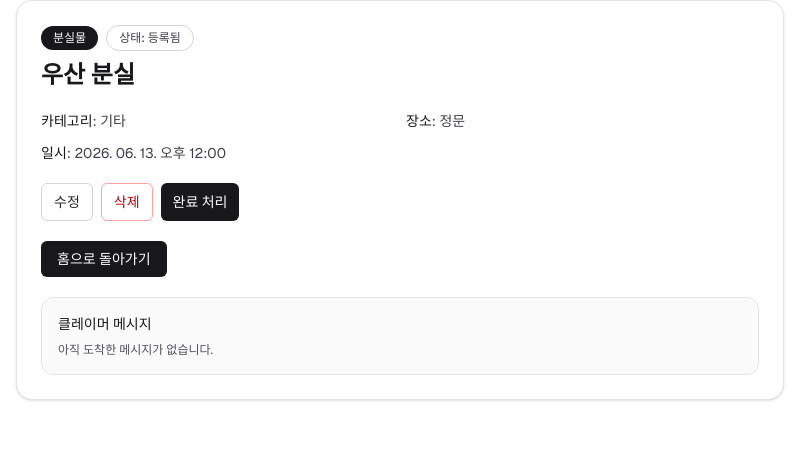
Test case: PostDetailView › allows author to delete post and shows back-to-home button
The image size is (801, 458).
Click the button "삭제" at coordinates (127, 202), box [101, 183, 153, 221]
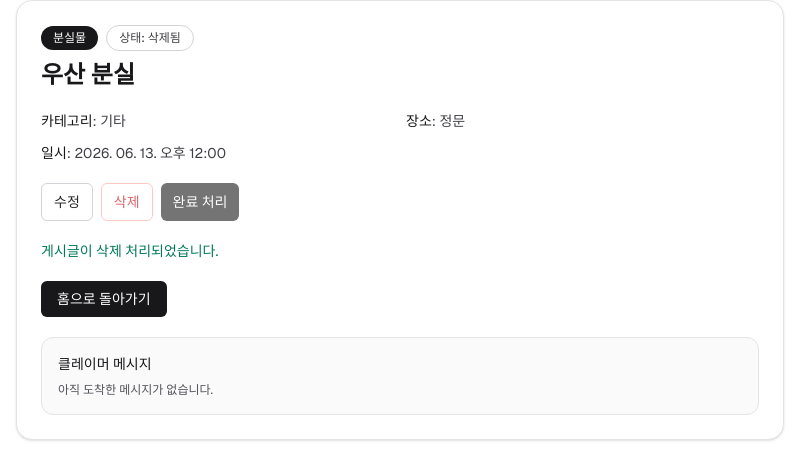
Expected: the text "게시글이 삭제 처리되었습니다." is shown, [41, 242, 218, 260]
